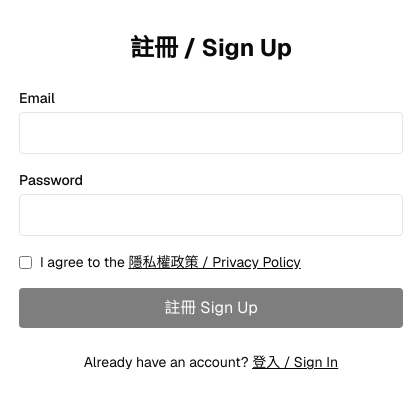
SignupPage › shows error message when signup fails
The width and height of the screenshot is (420, 405).
Step 1. Type "chen.wei@gmail.com" into the field labelled "Email" → [211, 133], box left=19, top=112, right=403, bottom=154
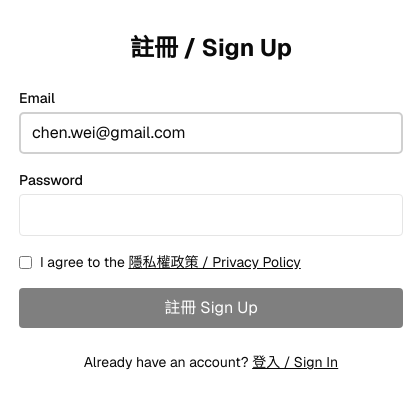
Step 2. Type "SecurePass123!" into the password field labelled "Password" → [211, 215], box left=19, top=194, right=403, bottom=236
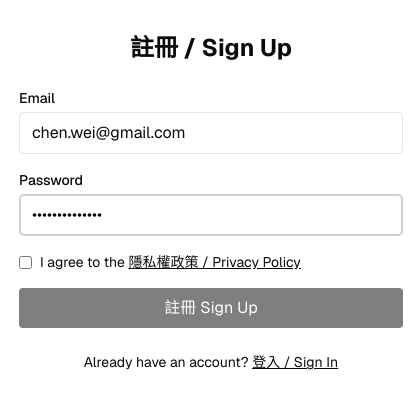
Step 3. Click the checkbox → [26, 262], box left=19, top=256, right=32, bottom=269
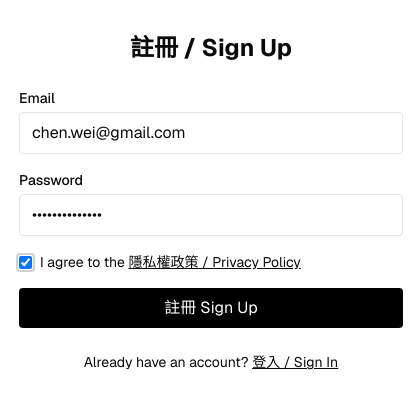
Step 4. Click the button "註冊 Sign Up" → [211, 308], box left=19, top=288, right=403, bottom=328
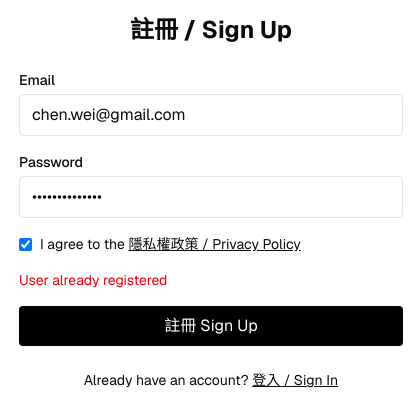
Expected: the message shows "already registered", left=19, top=271, right=168, bottom=289
